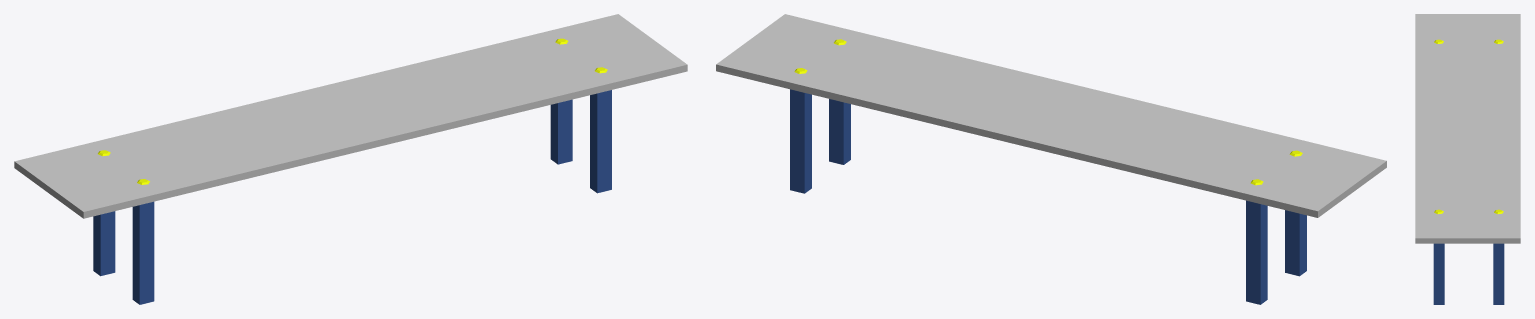
File: SM_Bench_01.fbx
The picture shows the model from 3 angles, left to right: view 1: azimuth 30°, elevation 25°; view 2: azimuth 150°, elevation 25°; view 3: azimuth 270°, elevation 25°; orthographic projection. The views are drawn at different scales.
Parts seen in each view (by area): view 1: SM_Bench_01; view 2: SM_Bench_01; view 3: SM_Bench_01.
Part boxes in pixels (left/top/right/bottom): SM_Bench_01: left=14, top=14, right=687, bottom=304; SM_Bench_01: left=716, top=14, right=1386, bottom=304; SM_Bench_01: left=1415, top=14, right=1520, bottom=304.
Size of the model in its own units: 226 by 42.8 by 44.8.
